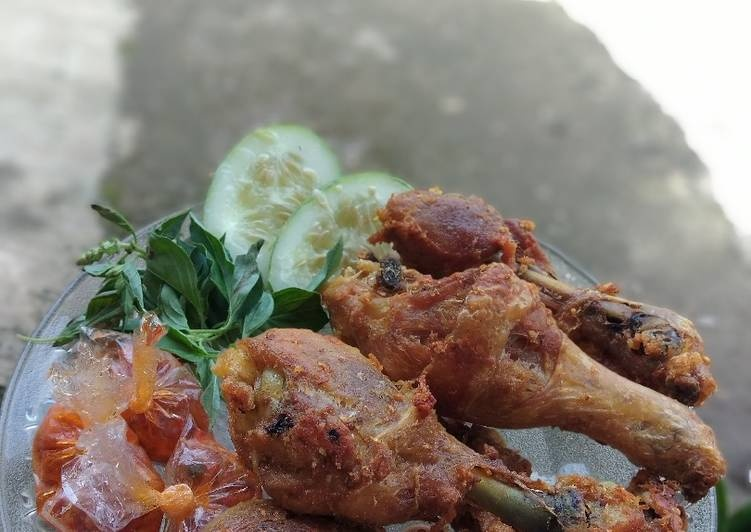ayam_goreng: (199, 328, 690, 532), (327, 248, 732, 492)
